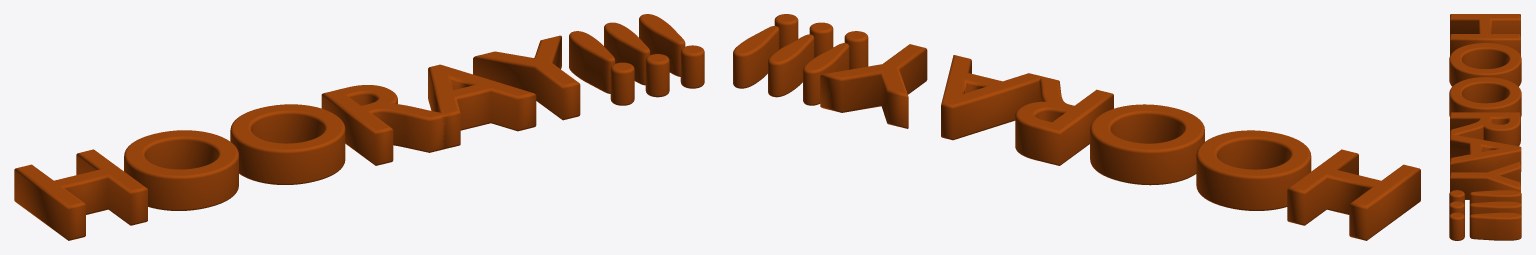
3 renders of one model, left to right at view 1: azimuth 30°, elevation 25°; view 2: azimuth 150°, elevation 25°; view 3: azimuth 270°, elevation 25°, orthographic. The views are drawn at different scales.
Parts seen in each view (by area): view 1: Text; view 2: Text; view 3: Text.
Part boxes in pixels (x1,y1,x2,y2): Text: (14,14,704,240); Text: (733,14,1420,240); Text: (1449,14,1521,240).
Size of the model in its own units: 4.95 by 0.26 by 0.7402.
